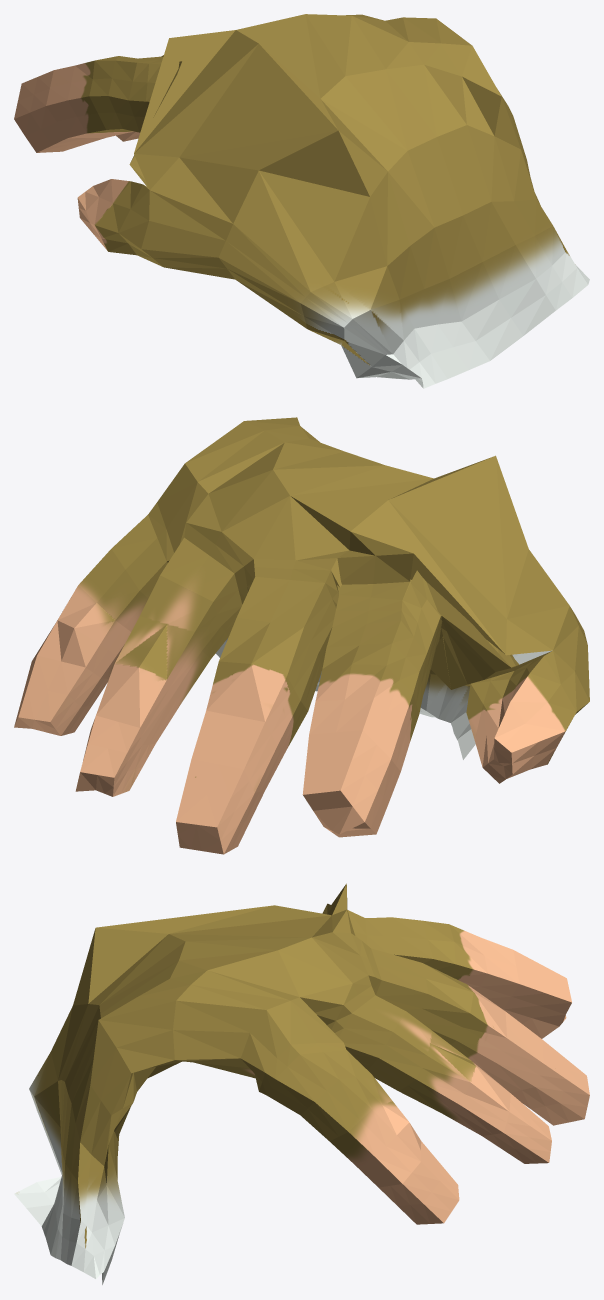
Rendered from flexion0059.obj.
3 views of the same model, one above another, from view 1: azimuth 30°, elevation 25°; view 2: azimuth 150°, elevation 25°; view 3: azimuth 270°, elevation 25° (orthographic). The views are drawn at different scales.
Visible parts, largest first — view 1: Hand; view 2: Hand; view 3: Hand.
Part boxes in pixels (box(x1,y1,x2,y2)): Hand: box(14, 14, 589, 388); Hand: box(14, 417, 589, 854); Hand: box(14, 883, 589, 1284).
Bounding box in the file's own units: 3.27 × 2.2 × 3.83.
